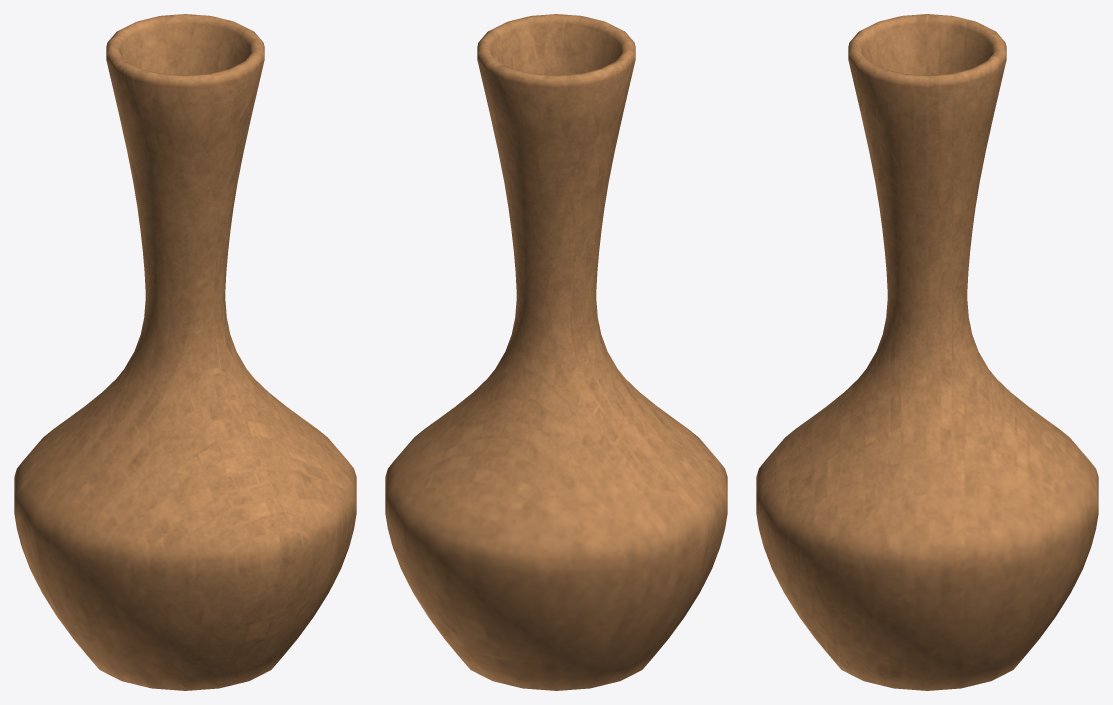
The model's file is Vase-2-beige.glb.
3 renders of one model, left to right at view 1: azimuth 30°, elevation 25°; view 2: azimuth 150°, elevation 25°; view 3: azimuth 270°, elevation 25°, orthographic.
Parts seen in each view (by area): view 1: Vase_2; view 2: Vase_2; view 3: Vase_2.
Part boxes in pixels (left/top/right/bottom): Vase_2: left=14, top=14, right=356, bottom=690; Vase_2: left=385, top=14, right=727, bottom=690; Vase_2: left=756, top=14, right=1098, bottom=690.
Bounding box in the file's own units: 0.4607 × 0.8907 × 0.4537.
Materials: 1 (1 with a texture image).
